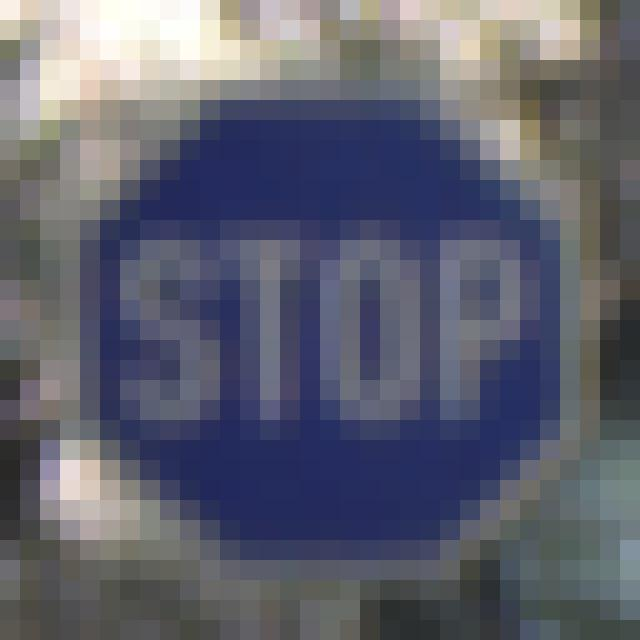STOP: (64, 64, 594, 588)
